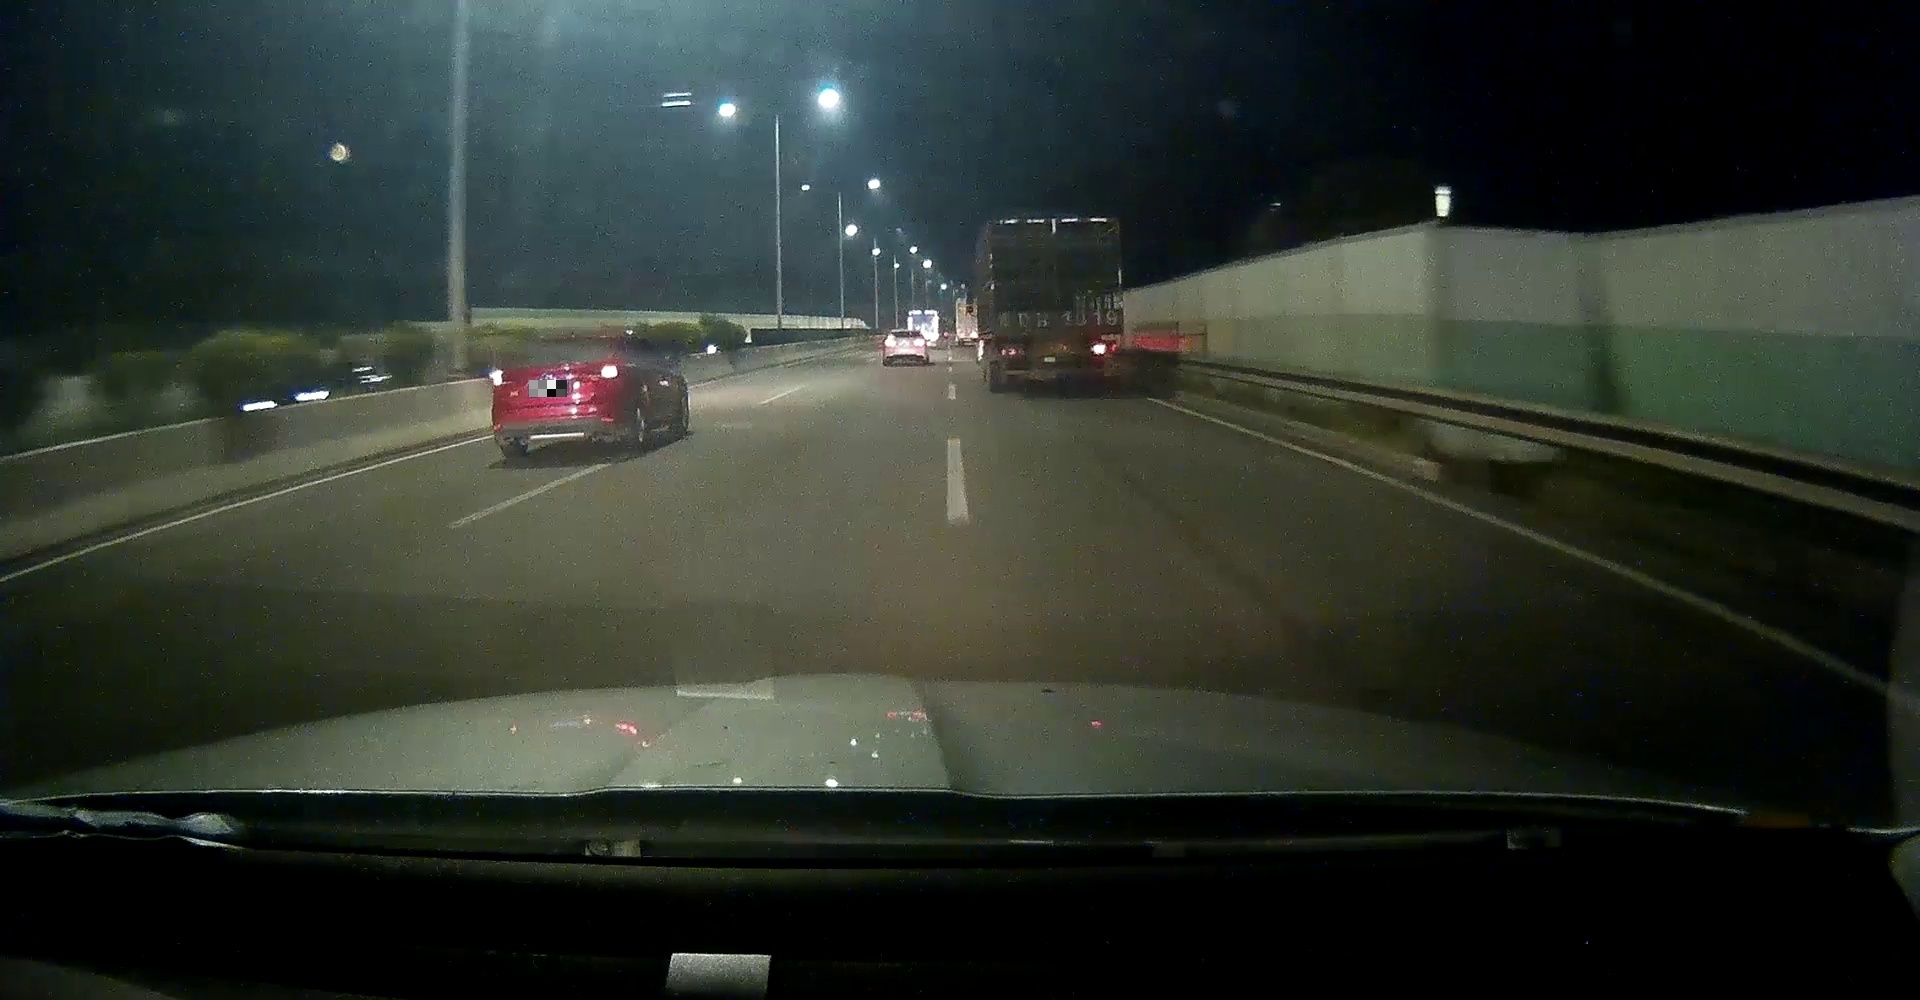L_light: (491, 368, 516, 387), (998, 346, 1022, 358), (885, 340, 897, 346)
R_light: (588, 359, 629, 381), (1090, 343, 1115, 355), (914, 339, 924, 346)
T_light: (559, 335, 584, 343), (1046, 310, 1070, 317), (902, 331, 909, 334)
night-no: (987, 218, 1123, 393), (490, 325, 632, 459), (883, 329, 927, 365)
plate_1: (530, 379, 568, 397)
